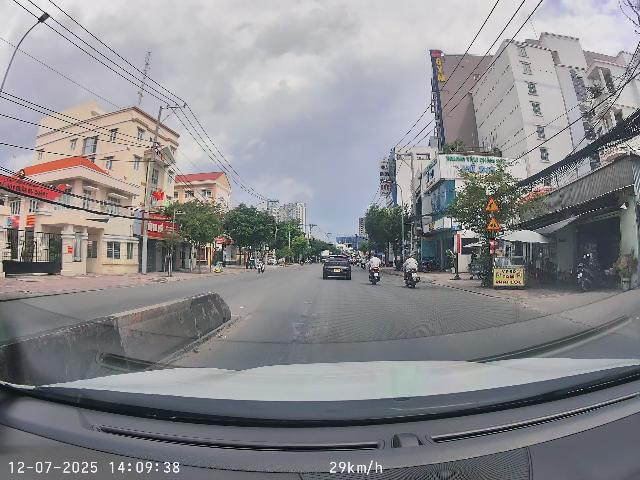201-cho-ngoat-nguy-hiem: (485, 196, 500, 211)
225-chu-y-tre-em: (486, 216, 501, 231)
